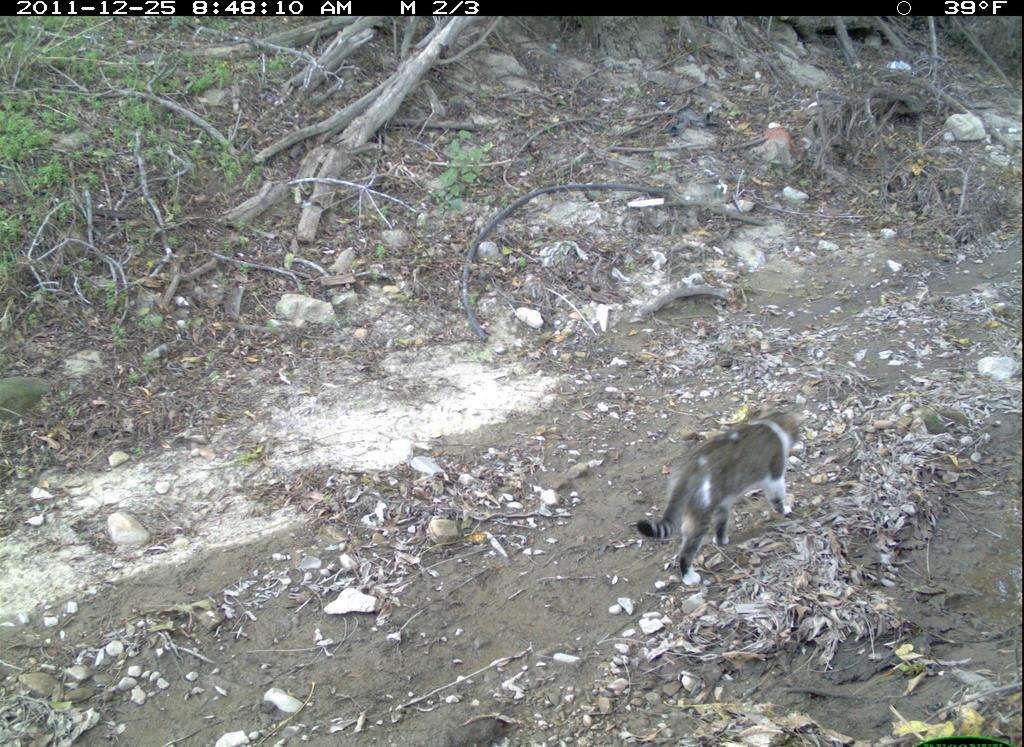cat: (623, 393, 815, 589)
